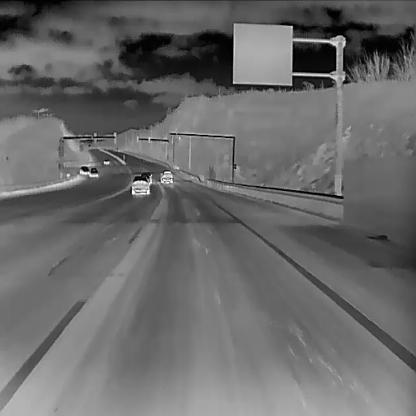car: (131, 174, 150, 194), (159, 169, 172, 183), (140, 170, 151, 184), (78, 164, 90, 175), (89, 167, 99, 177), (102, 157, 110, 164)
